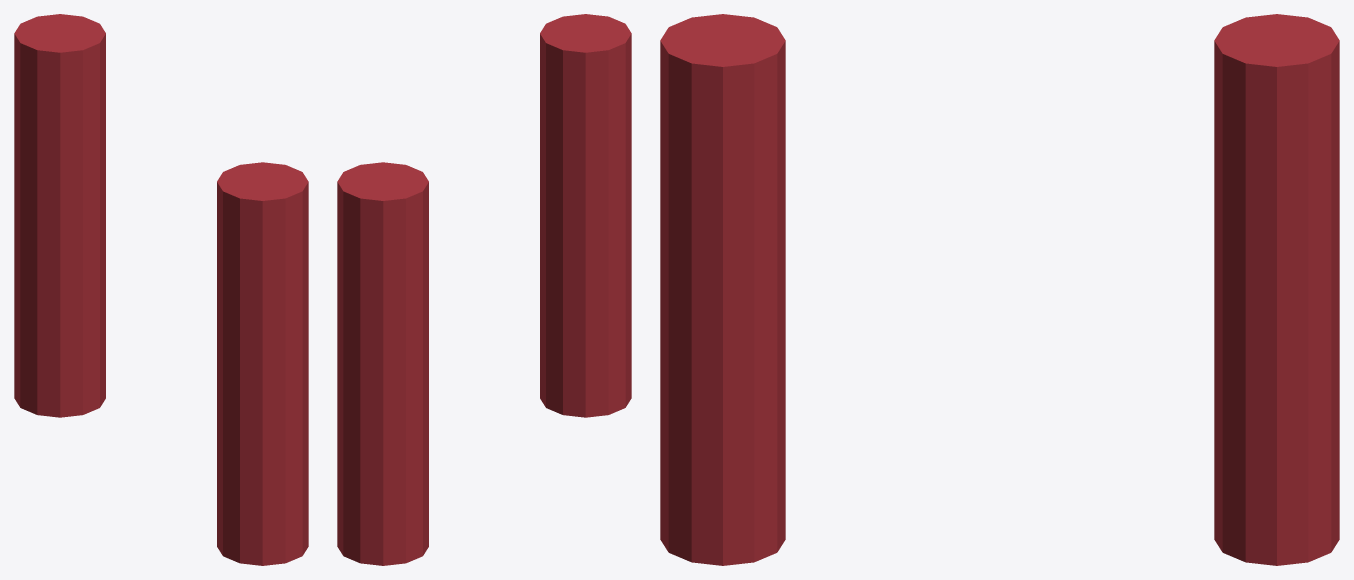
The model's file is Side_Pillars.fbx.
3 views of the same model, side by side, from view 1: azimuth 30°, elevation 25°; view 2: azimuth 150°, elevation 25°; view 3: azimuth 270°, elevation 25° (orthographic). The views are drawn at different scales.
Visible parts, largest first — view 1: Cylinder; view 2: Cylinder; view 3: Cylinder.
Part boxes in pixels (x1,y1,x2,y2): Cylinder: [14, 14, 308, 565]; Cylinder: [337, 14, 631, 565]; Cylinder: [660, 14, 1339, 565].
Size of the model in its own units: 453 by 1986 by 2451.
